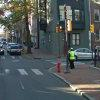Crosswalk: (5, 57, 52, 81)
